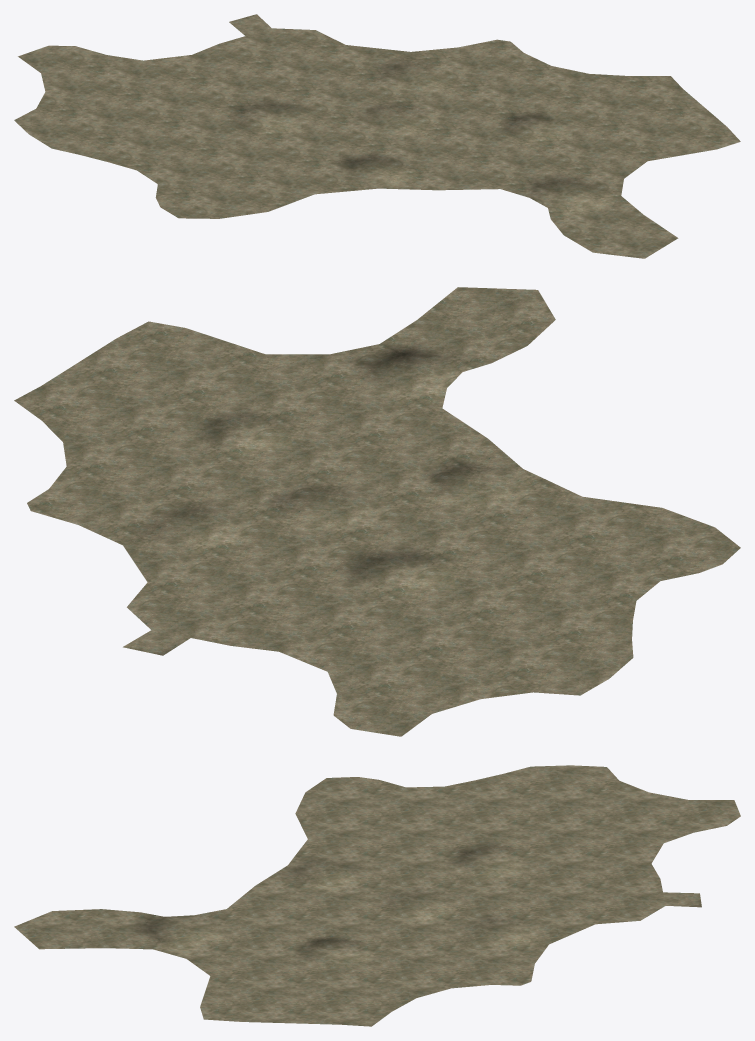
File: EKH_JAIL_PS_JA_OUIB_FLOOR939838.obj
3 views of the same model, one above another, from view 1: azimuth 30°, elevation 25°; view 2: azimuth 150°, elevation 25°; view 3: azimuth 270°, elevation 25° (orthographic). The views are drawn at different scales.
Parts seen in each view (by area): view 1: uib_Floor939838; view 2: uib_Floor939838; view 3: uib_Floor939838.
Part boxes in pixels (x1=…): uib_Floor939838: x1=14, y1=14, x2=740, y2=258; uib_Floor939838: x1=14, y1=287, x2=740, y2=736; uib_Floor939838: x1=14, y1=765, x2=740, y2=1026.
Bounding box in the file's own units: 1659 × 0.000183 × 1951.
